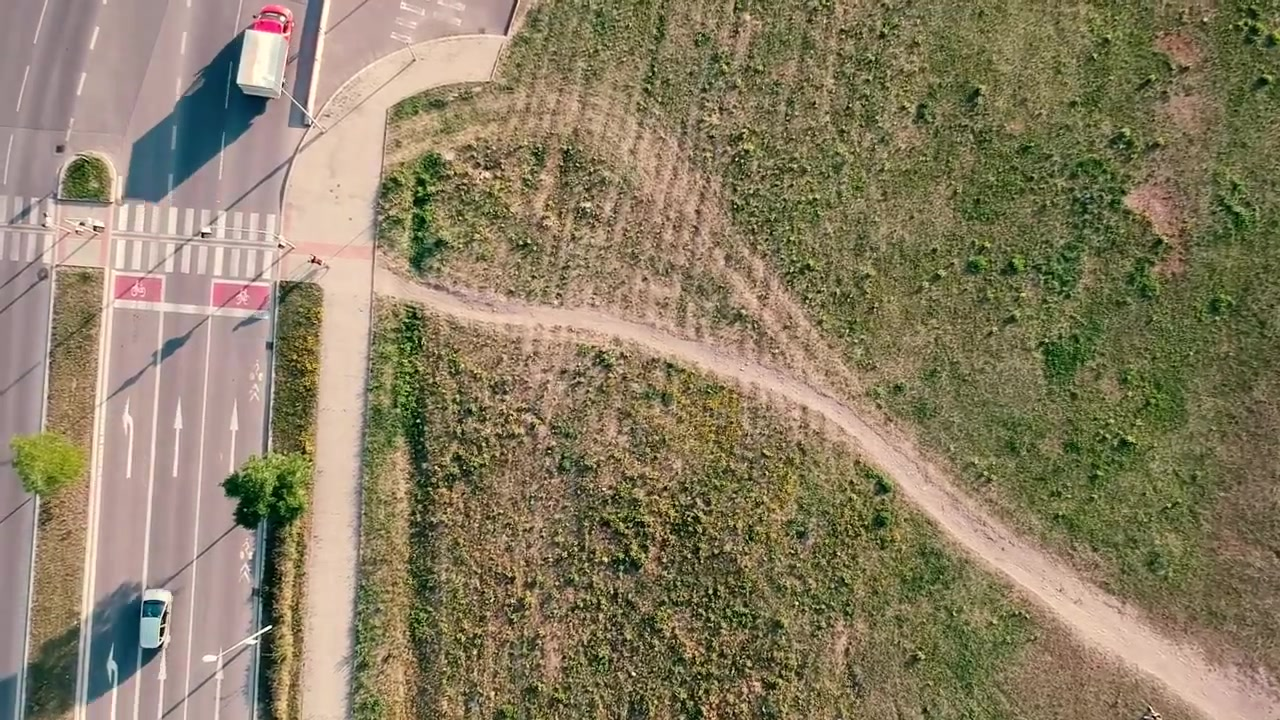car: (237, 1, 295, 101), (135, 586, 173, 654)
